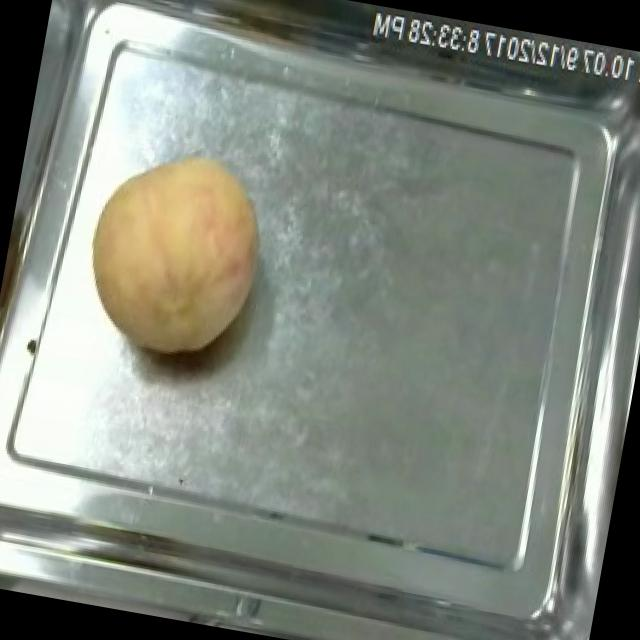Fruit: (62, 130, 285, 375)
